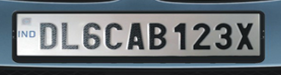1: (173, 22, 189, 50)
2: (192, 22, 212, 50)
3: (214, 22, 234, 50)
A: (126, 22, 146, 50)
B: (148, 22, 168, 51)
C: (105, 22, 125, 50)
D: (39, 22, 59, 50)
L: (60, 22, 80, 50), (82, 22, 102, 50)
X: (236, 22, 255, 50)
